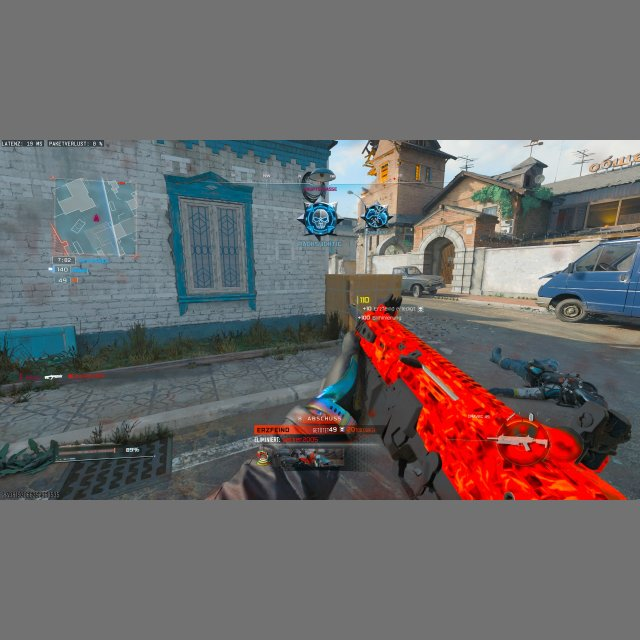player: (363, 202, 390, 230)
